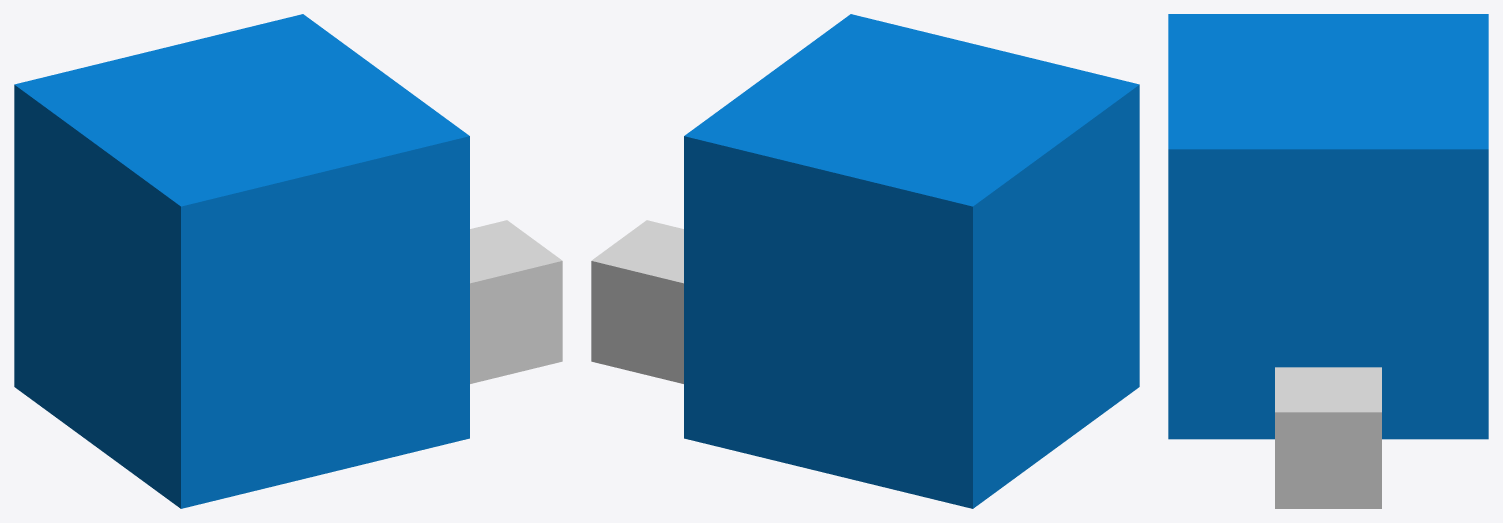
The model's file is water3m.glb.
3 views of the same model, side by side, from view 1: azimuth 30°, elevation 25°; view 2: azimuth 150°, elevation 25°; view 3: azimuth 270°, elevation 25° (orthographic). The views are drawn at different scales.
Parts seen in each view (by area): view 1: Cube.001, Cube; view 2: Cube.001, Cube; view 3: Cube.001, Cube.
Part boxes in pixels (bbox=[...]): Cube.001: bbox=[14, 14, 469, 508]; Cube: bbox=[470, 220, 562, 383]; Cube.001: bbox=[684, 14, 1139, 508]; Cube: bbox=[591, 220, 683, 383]; Cube.001: bbox=[1168, 14, 1488, 439]; Cube: bbox=[1275, 367, 1381, 508].
Size of the model in its own units: 4.54 by 3 by 3.
